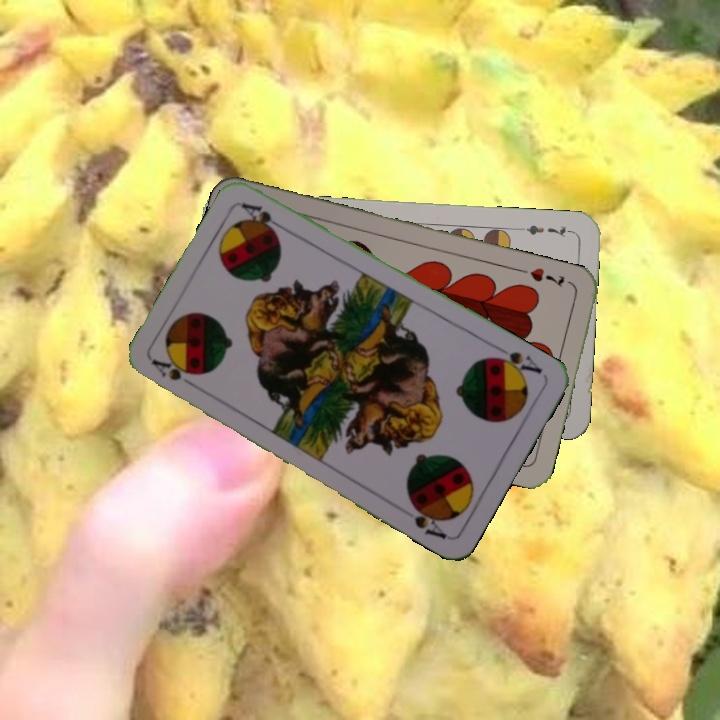E7: (523, 220, 575, 240)
H7: (526, 263, 567, 290)
SA: (487, 342, 545, 380), (147, 354, 201, 392)
